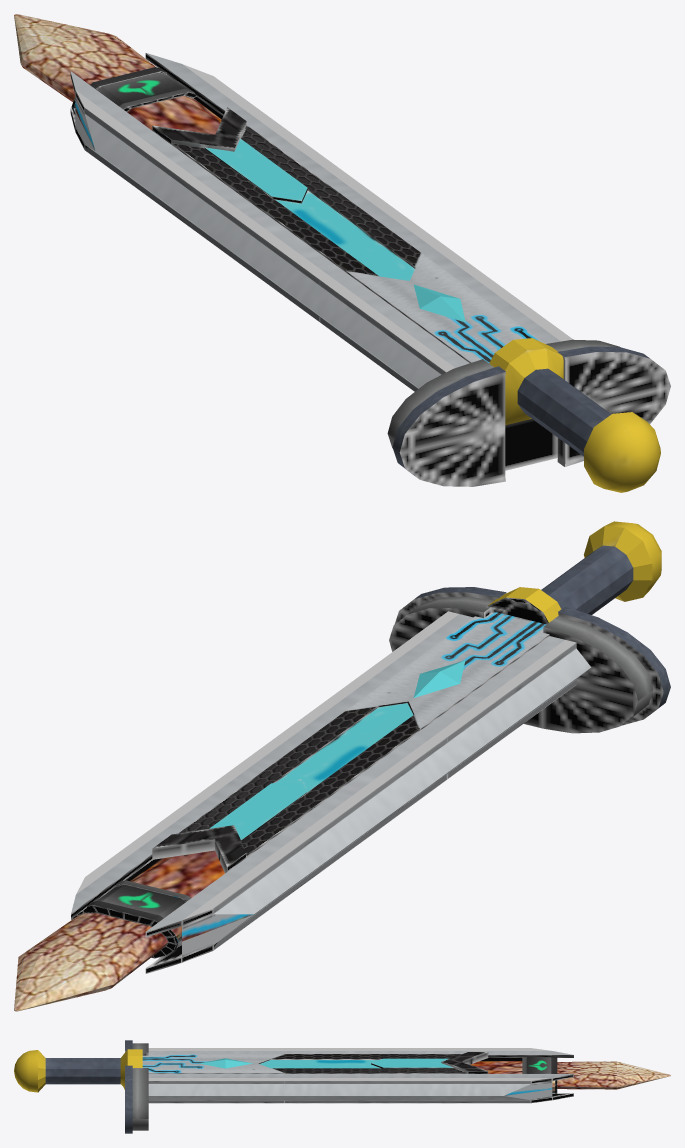
Rendered from Sword.fbx.
3 views of the same model, one above another, from view 1: azimuth 30°, elevation 25°; view 2: azimuth 150°, elevation 25°; view 3: azimuth 270°, elevation 25° (orthographic). The views are drawn at different scales.
Visible parts, largest first — view 1: Sword; view 2: Sword; view 3: Sword.
Boxes of the visible parts, box(x1,y1,x2,y2) form: Sword: box(14, 14, 670, 492); Sword: box(14, 521, 670, 1011); Sword: box(14, 1040, 670, 1133).
Size of the model in its own units: 275 by 120 by 1103.
